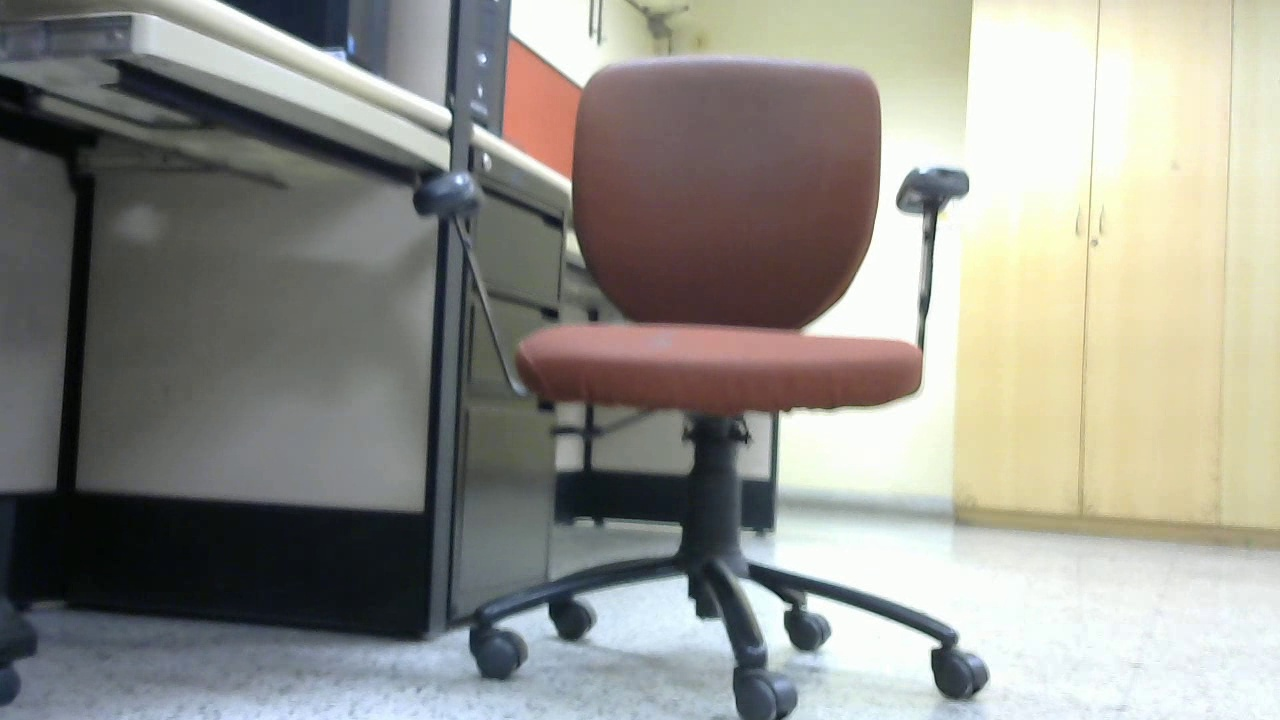chair: (419, 56, 987, 720)
